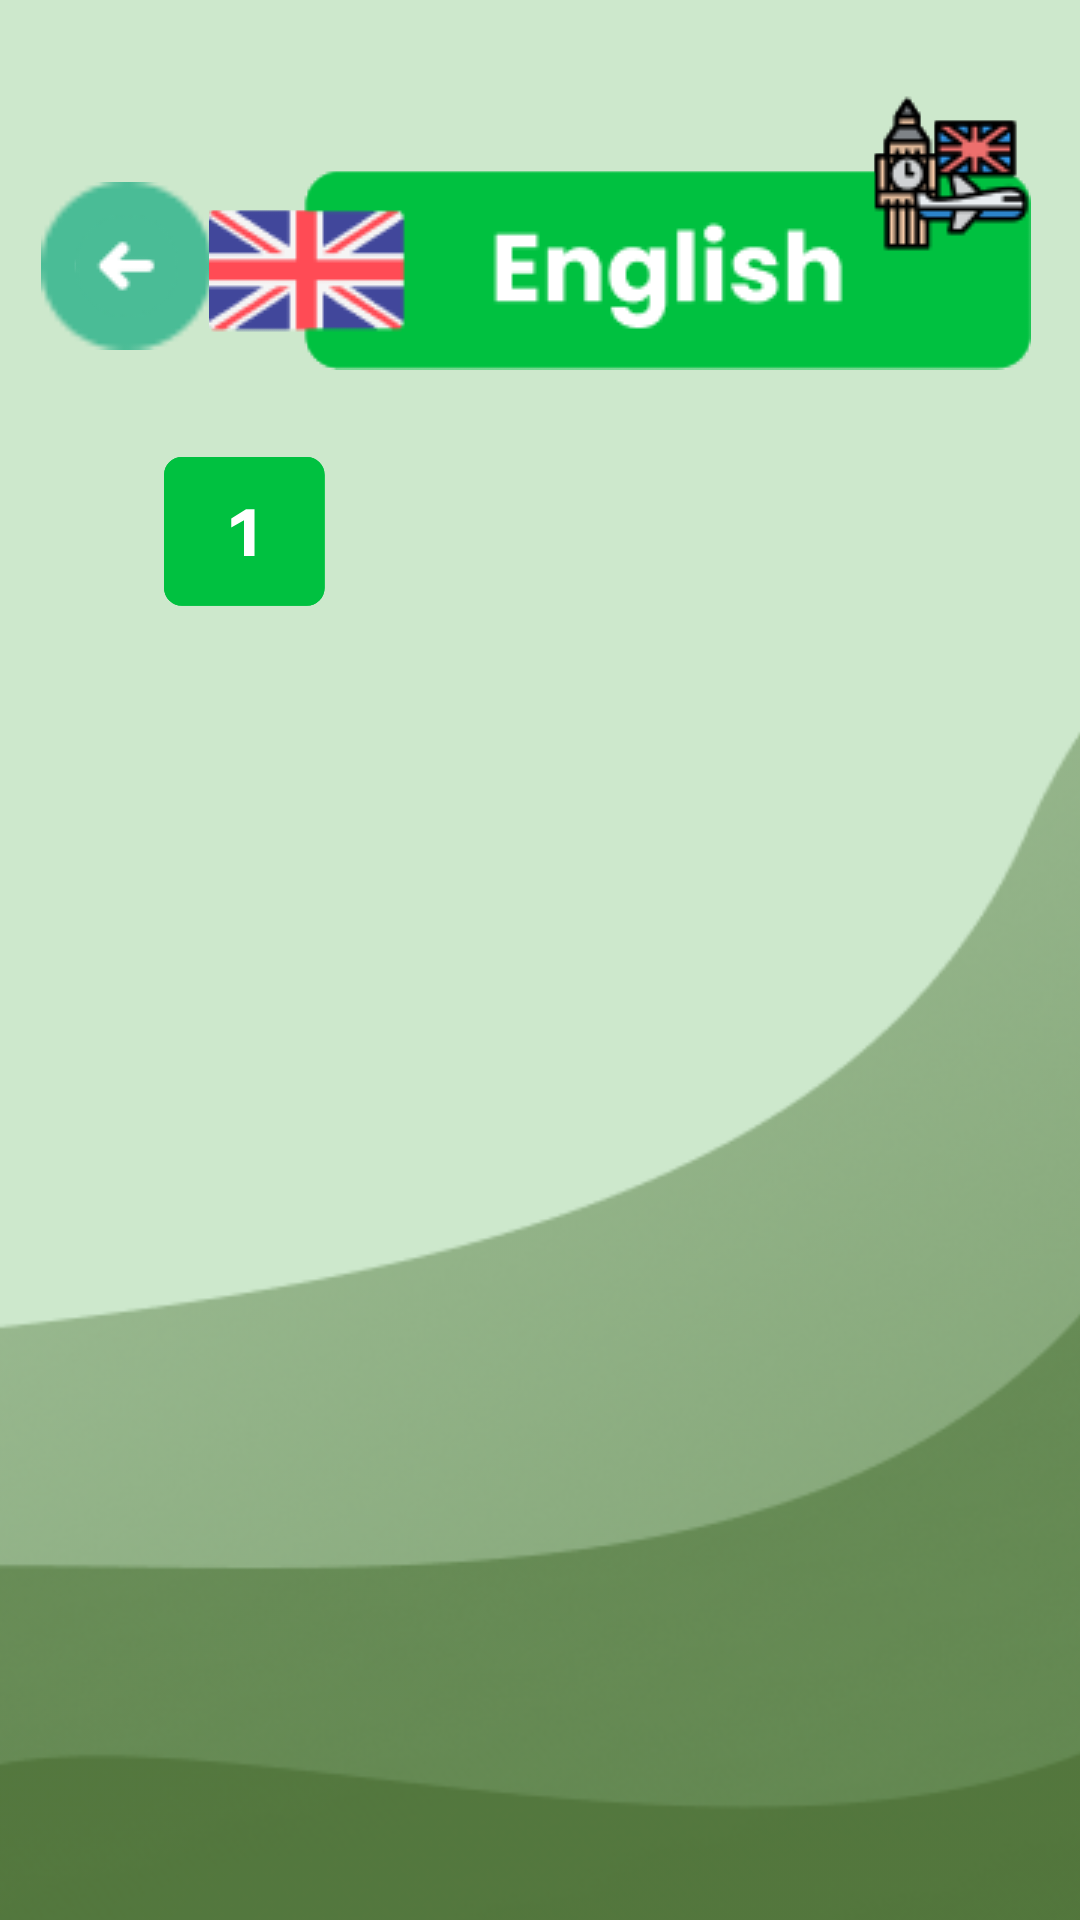

Locate icon controls on the screen. Image size 1080px x 1920px, boxes as (x1, y1, x2, y2).
buttongoback: (41, 182, 212, 350)
